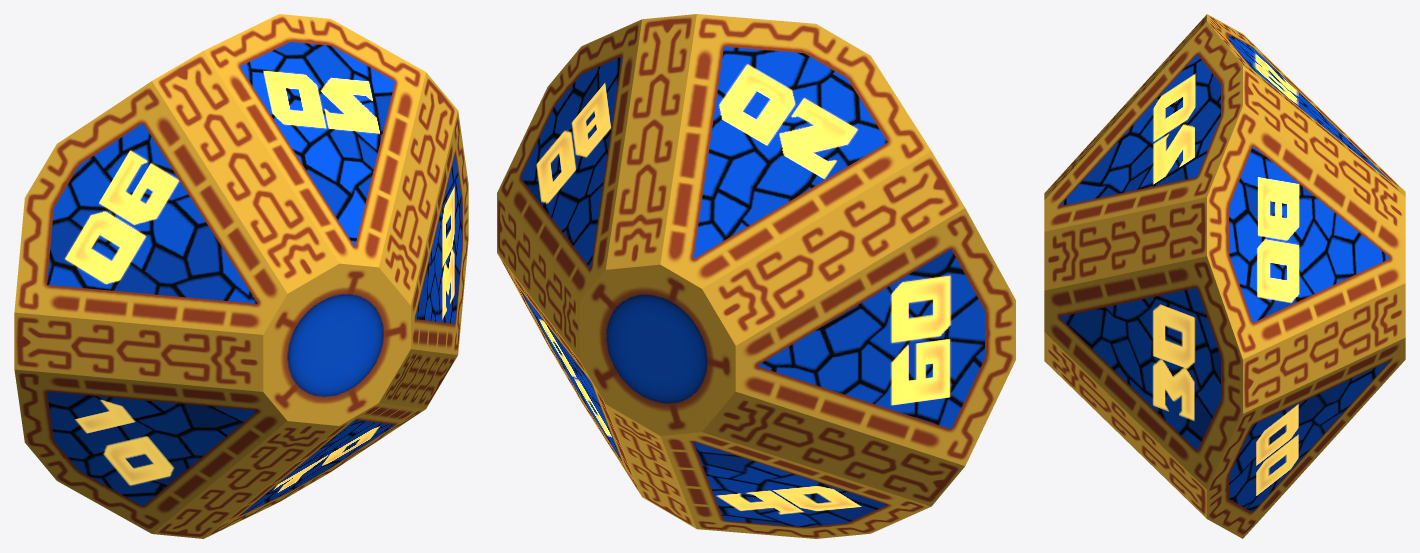
3 renders of one model, left to right at view 1: azimuth 30°, elevation 25°; view 2: azimuth 150°, elevation 25°; view 3: azimuth 270°, elevation 25°, orthographic. The views are drawn at different scales.
Visible parts, largest first — view 1: D100; view 2: D100; view 3: D100.
Part boxes in pixels (left/top/right/bottom): D100: left=14, top=14, right=468, bottom=538; D100: left=497, top=14, right=1015, bottom=538; D100: left=1044, top=14, right=1405, bottom=538.
Bounding box in the file's own units: 172 × 169 × 119.
1 material, 1 textured.
